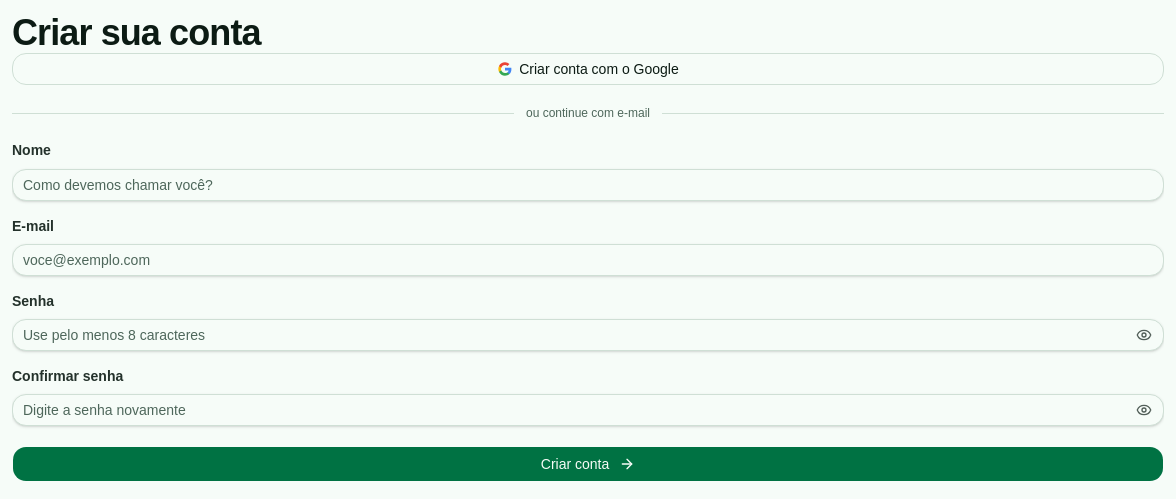
Test: Register › envia cadastro válido pelo contrato de identidade
Type "Gustavo" into the field labelled "Nome" at (588, 185), box [12,169,1164,201]
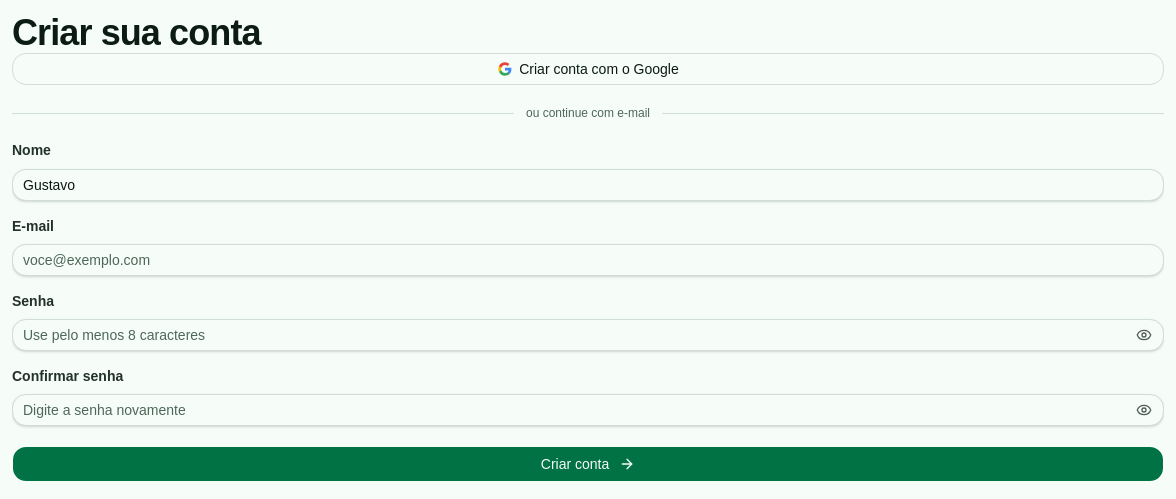
Type "gustavo@example.com" into the field labelled "E-mail" at (588, 260), box [12,244,1164,276]
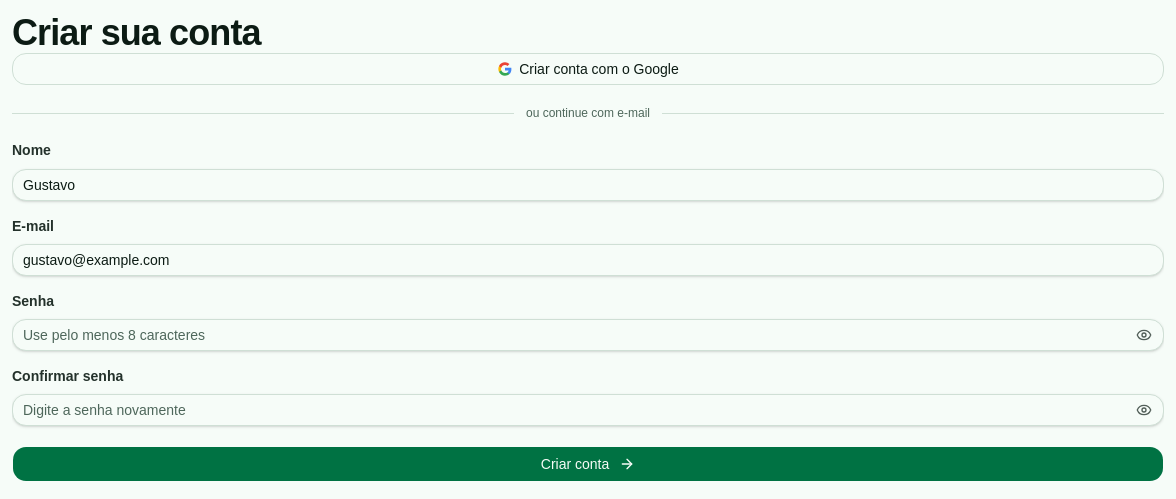
Type "senha-segura-123" into the password field labelled "Senha" at (570, 335), box [13,319,1128,351]
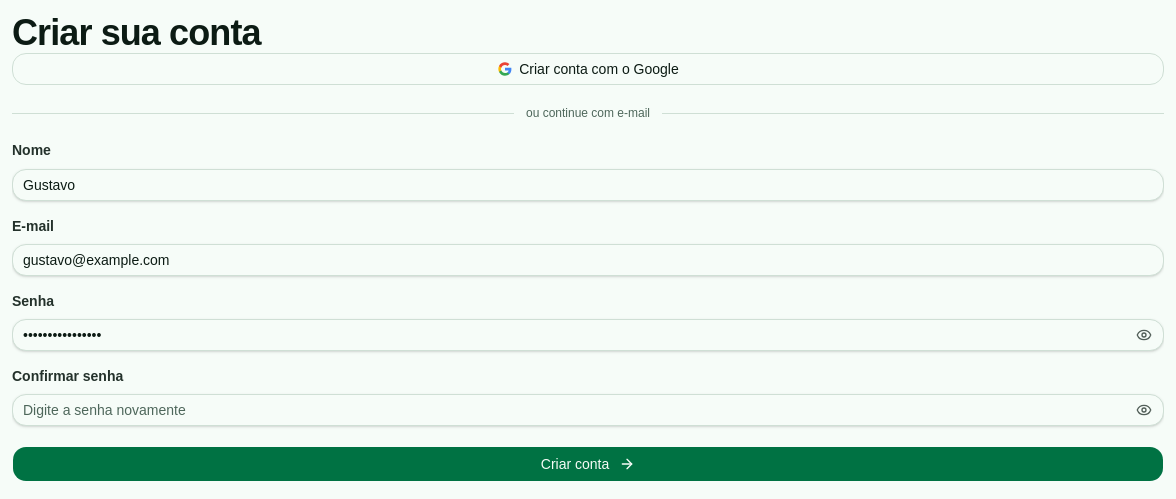
Type "senha-segura-123" into the password field labelled "Confirmar senha" at (570, 410), box [13,394,1128,426]
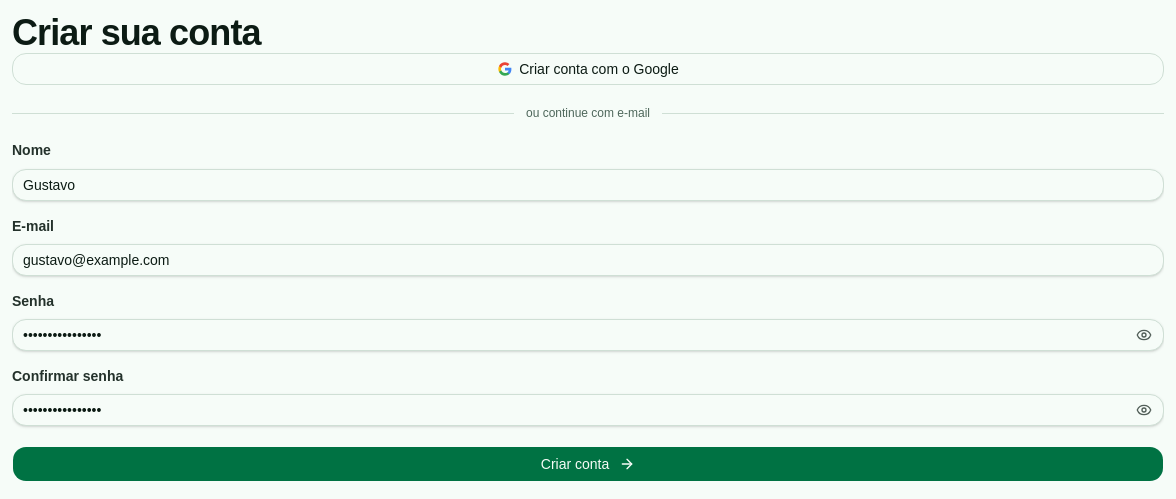
Click the button "Criar conta" at (588, 464), box [12,446,1164,482]
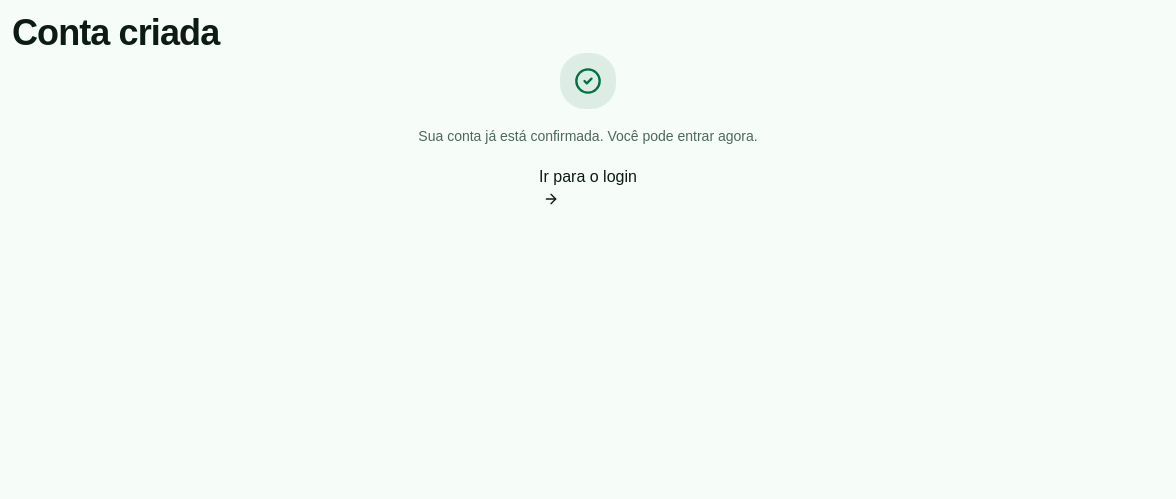
Result: the heading "Conta criada" is shown at [12,12,219,53]
